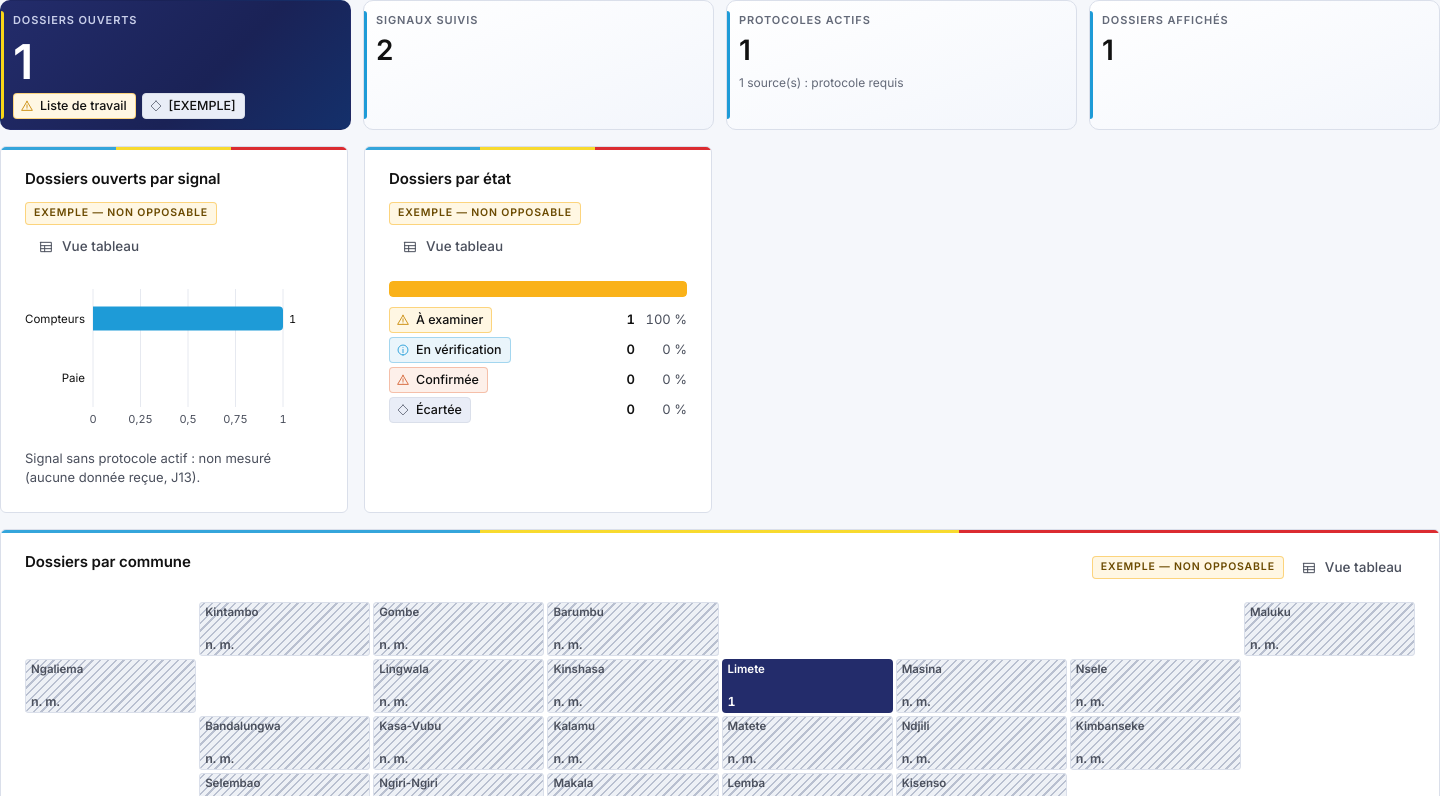
Test: Déclarations, anomalies, recensement, reprise › signal sans protocole actif : non mesuré (aucune donnée reçue)
Expected: the heading "Dossiers ouverts par signal" is shown, 25,167 -> 220,190
Click the button "Vue tableau" below "Dossiers ouverts par signal".
click(89, 246)  # box 25,228 -> 152,264
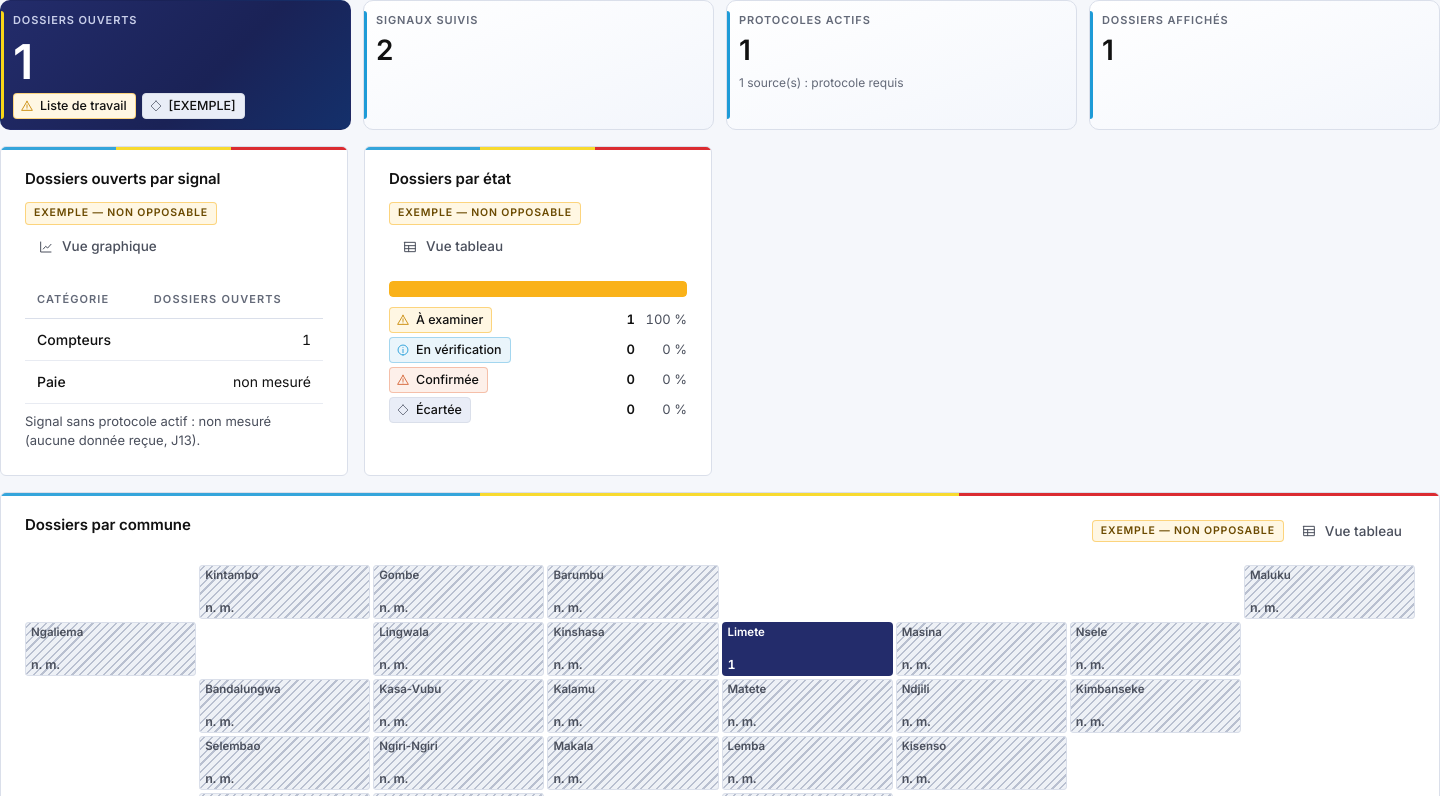
Now the text "non mesuré" is shown, box 142,361 -> 323,404
